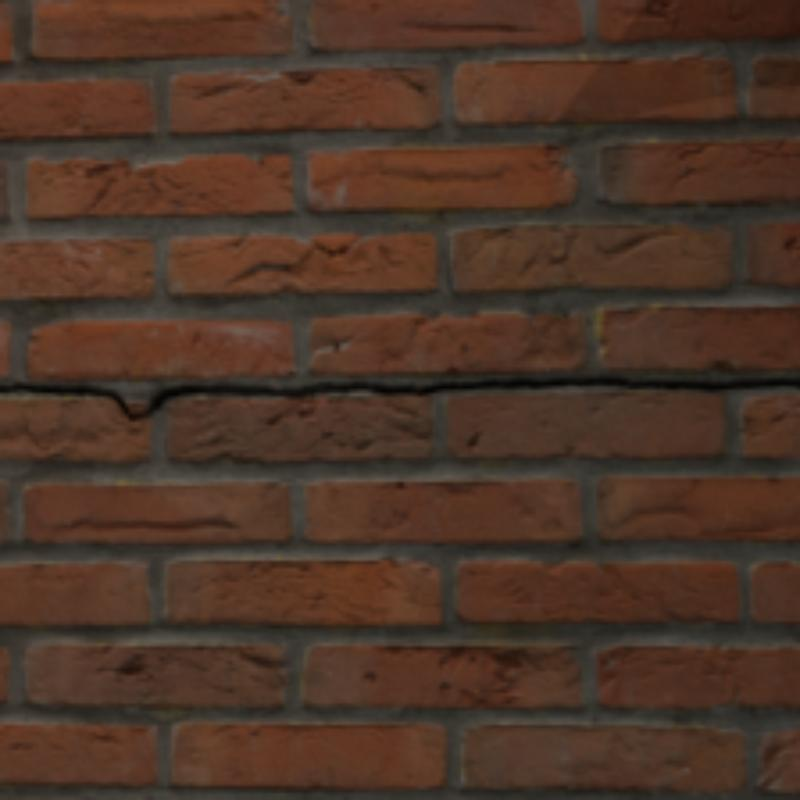pothole: (0, 382, 439, 418), (439, 379, 796, 389)
